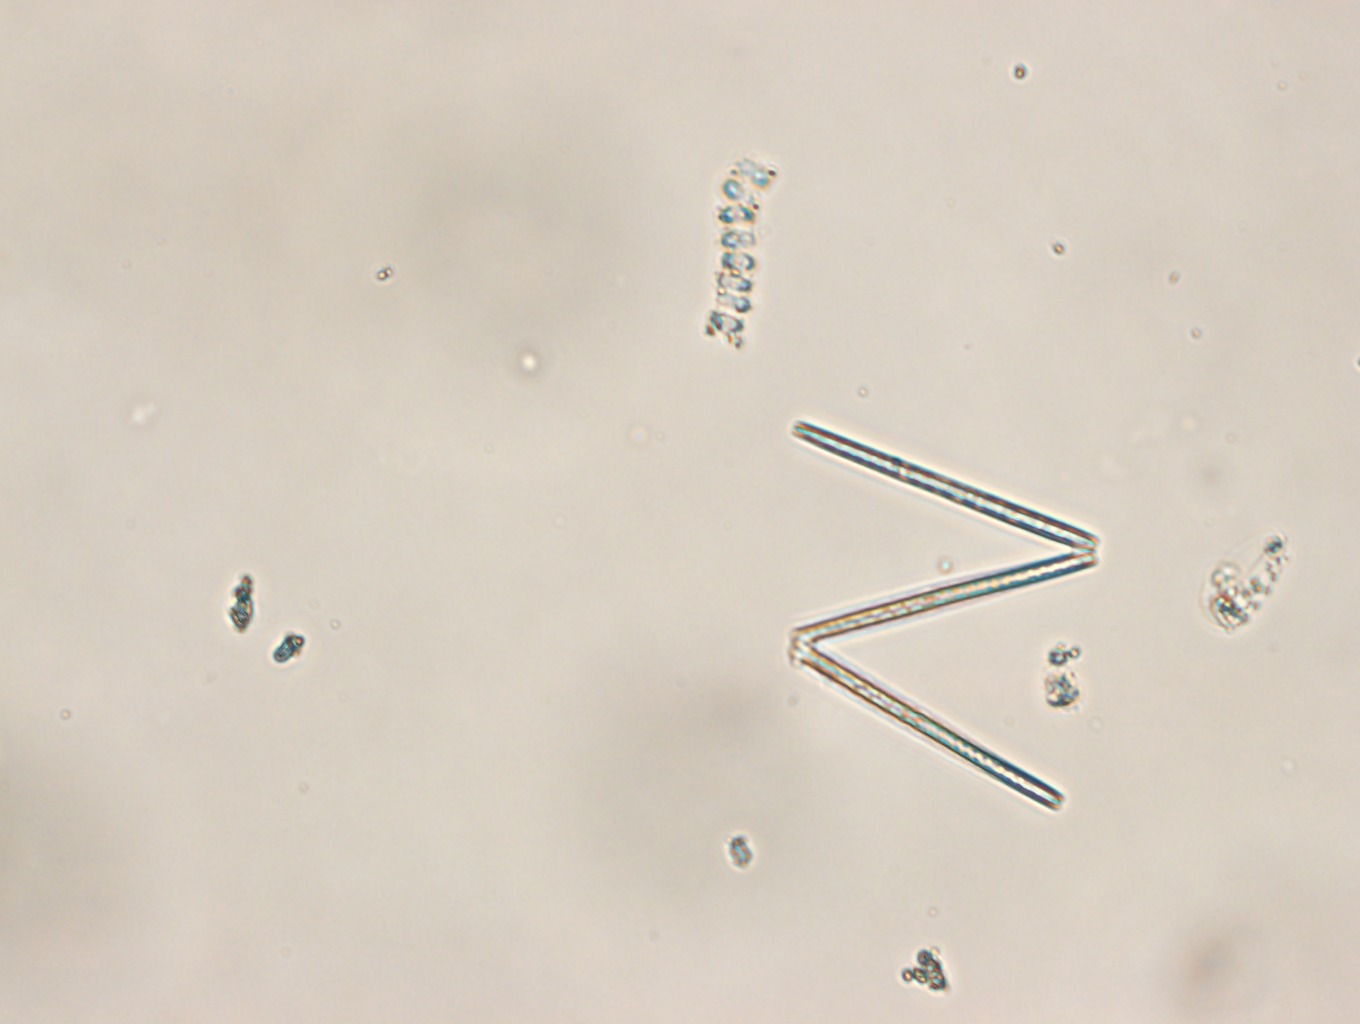skeletonema: (699, 153, 781, 349)
thalassionema nitzschioides: (789, 417, 1100, 811)
